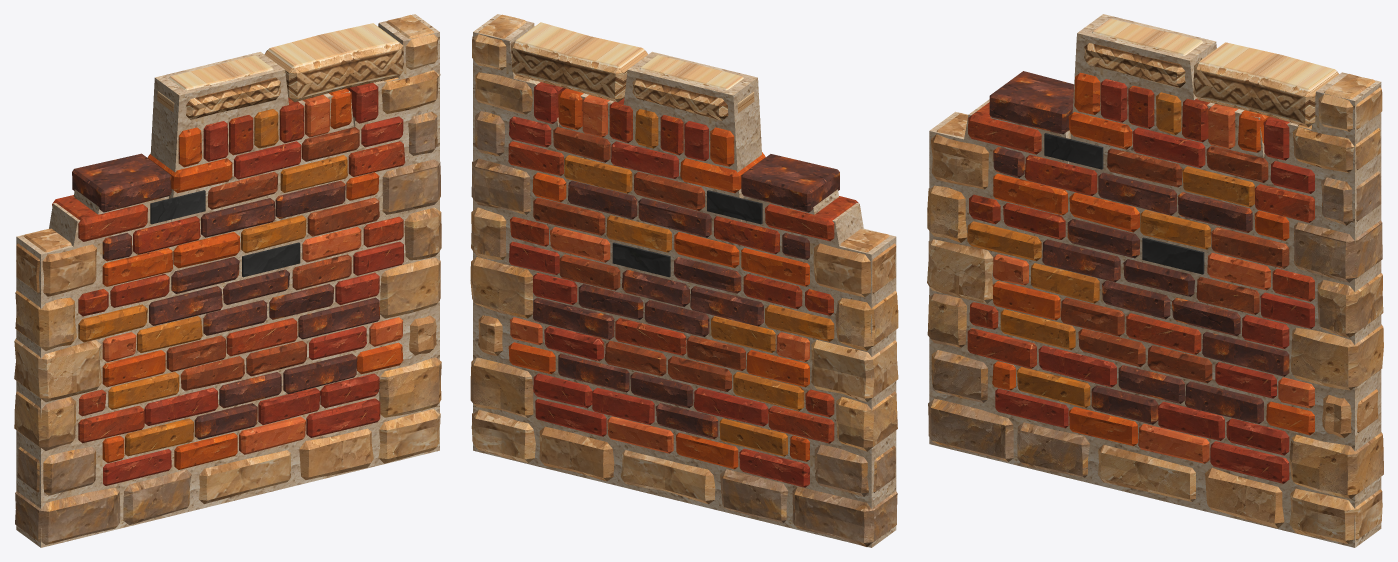
File: ruin_wall_worn__clay_brick.glb
3 renders of one model, left to right at view 1: azimuth 30°, elevation 25°; view 2: azimuth 150°, elevation 25°; view 3: azimuth 330°, elevation 25°, orthographic. The views are drawn at different scales.
Parts seen in each view (by area): view 1: model; view 2: model; view 3: model.
Part boxes in pixels (x1,y1,x2,y2): model: (14, 14, 441, 547); model: (470, 14, 898, 547); model: (927, 14, 1383, 547).
Bounding box in the file's own units: 1.98 × 1.98 × 0.2841.
15 materials, 15 textured.
